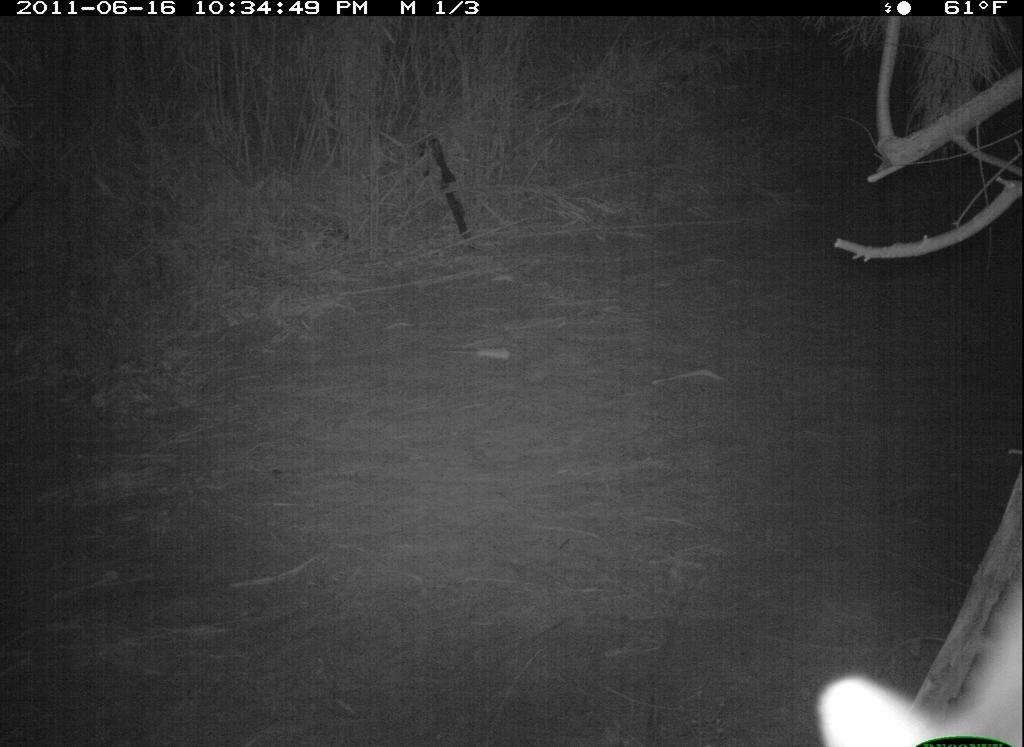raccoon: (813, 561, 1021, 747)
